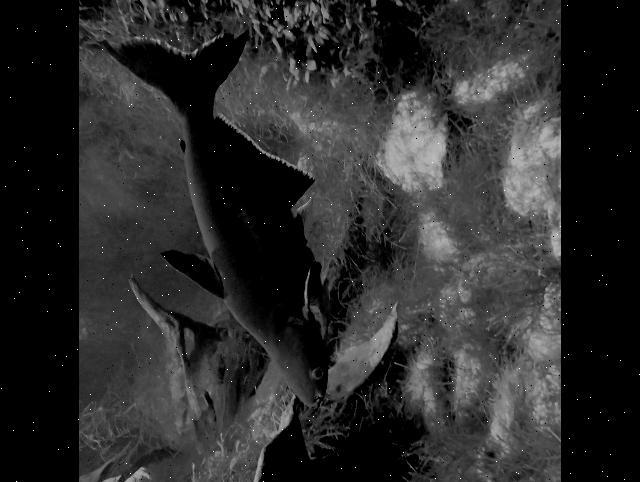Mulut: (294, 352, 344, 408)
Sirip Anal: (208, 109, 322, 199)
Sirip Dada: (292, 257, 331, 315)
Sirip Ekor: (100, 4, 256, 106)
Sirip Perut: (292, 187, 324, 251)
Sirip Punggung: (159, 226, 227, 308)
